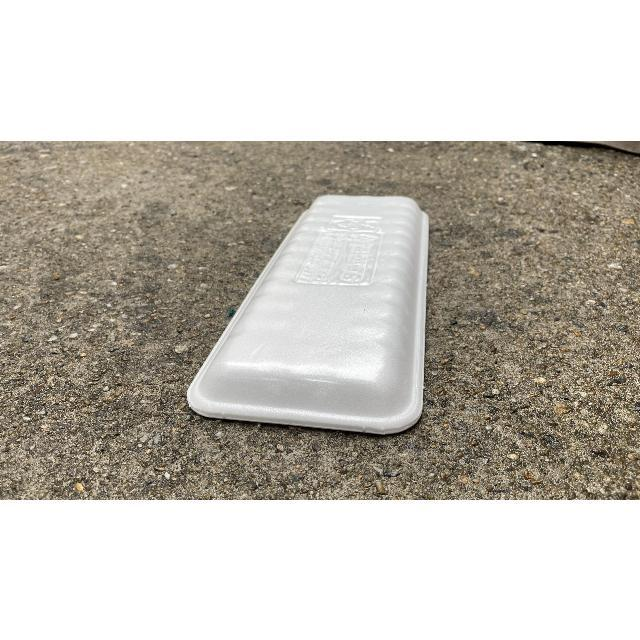Recipiente plastico: (188, 196, 429, 433)
